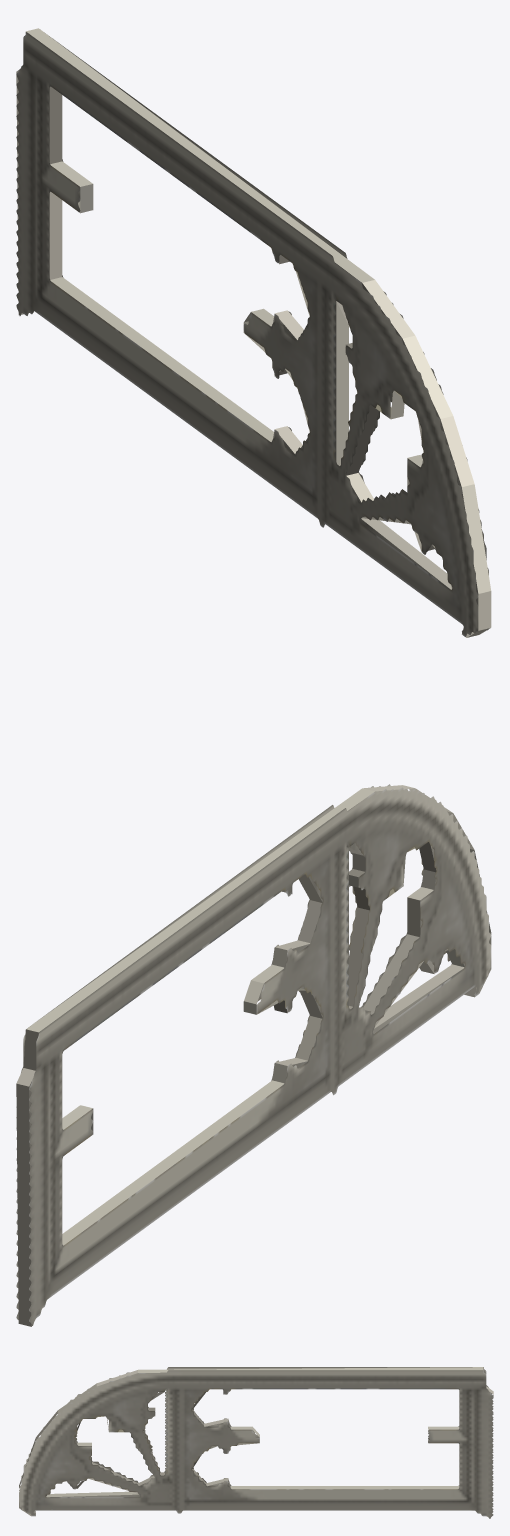
File: pz_native_fixtures_windows_church_68_frame.obj
3 views of the same model, one above another, from view 1: azimuth 30°, elevation 25°; view 2: azimuth 150°, elevation 25°; view 3: azimuth 270°, elevation 25° (orthographic). The views are drawn at different scales.
Parts seen in each view (by area): view 1: pz_native_fixtures_windows_church_68_frame; view 2: pz_native_fixtures_windows_church_68_frame; view 3: pz_native_fixtures_windows_church_68_frame.
Boxes of the visible parts, <box> form: pz_native_fixtures_windows_church_68_frame: <box>16,28,491,637</box>; pz_native_fixtures_windows_church_68_frame: <box>16,784,491,1326</box>; pz_native_fixtures_windows_church_68_frame: <box>19,1367,493,1518</box>.
Size of the model in its own units: 0.04 by 0.8906 by 2.53.
1 material, 1 textured.
